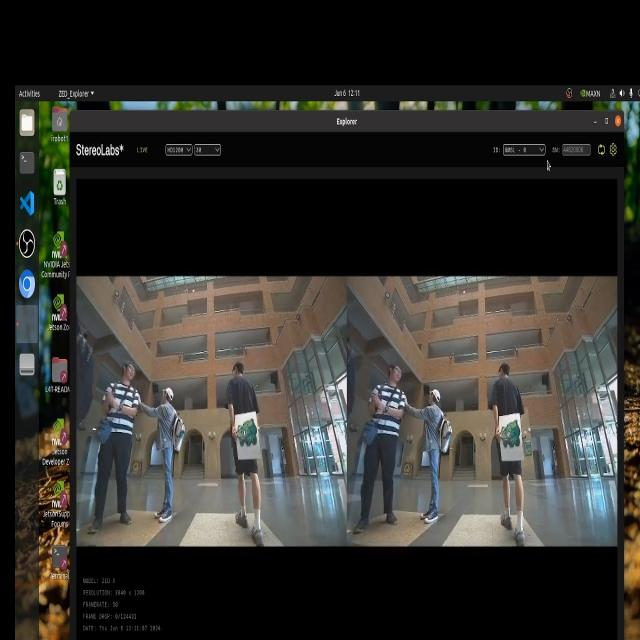green: (238, 415, 262, 448), (502, 416, 517, 449)
